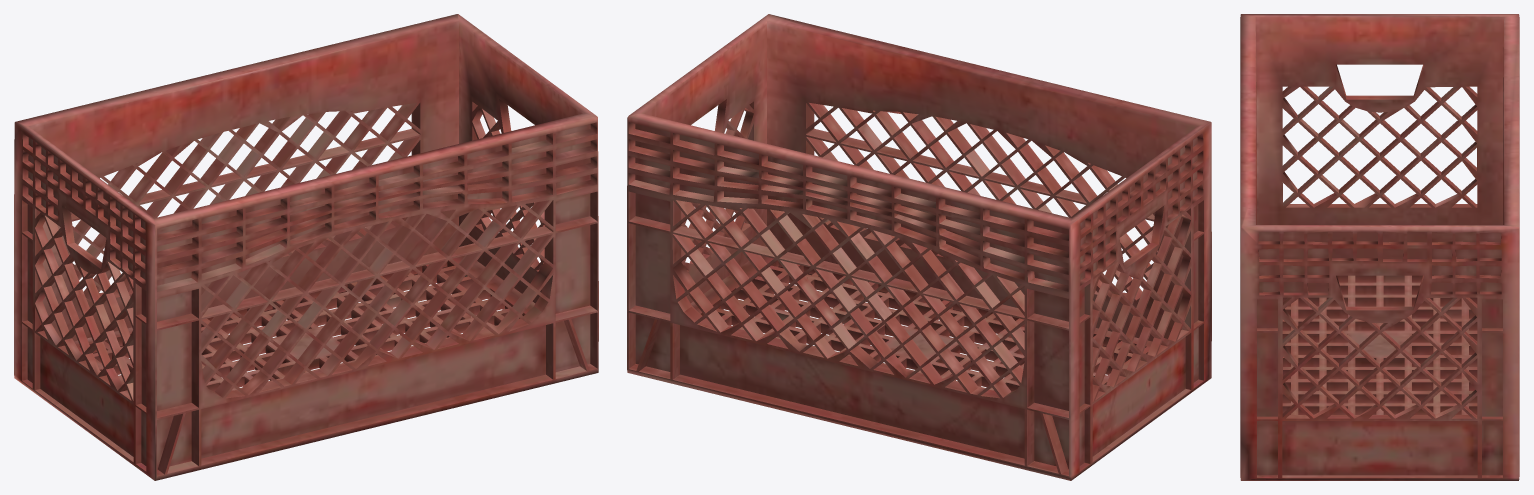
The model's file is plastic_crate.glb.
3 views of the same model, side by side, from view 1: azimuth 30°, elevation 25°; view 2: azimuth 150°, elevation 25°; view 3: azimuth 270°, elevation 25° (orthographic).
Parts seen in each view (by area): view 1: plastic_crate_03; view 2: plastic_crate_03; view 3: plastic_crate_03.
Boxes of the visible parts, <box> form: plastic_crate_03: <box>14,14,598,480</box>; plastic_crate_03: <box>627,14,1211,480</box>; plastic_crate_03: <box>1240,14,1519,480</box>.
Size of the model in its own units: 0.4811 by 0.2652 by 0.265.
Materials: 1 (1 with a texture image).
